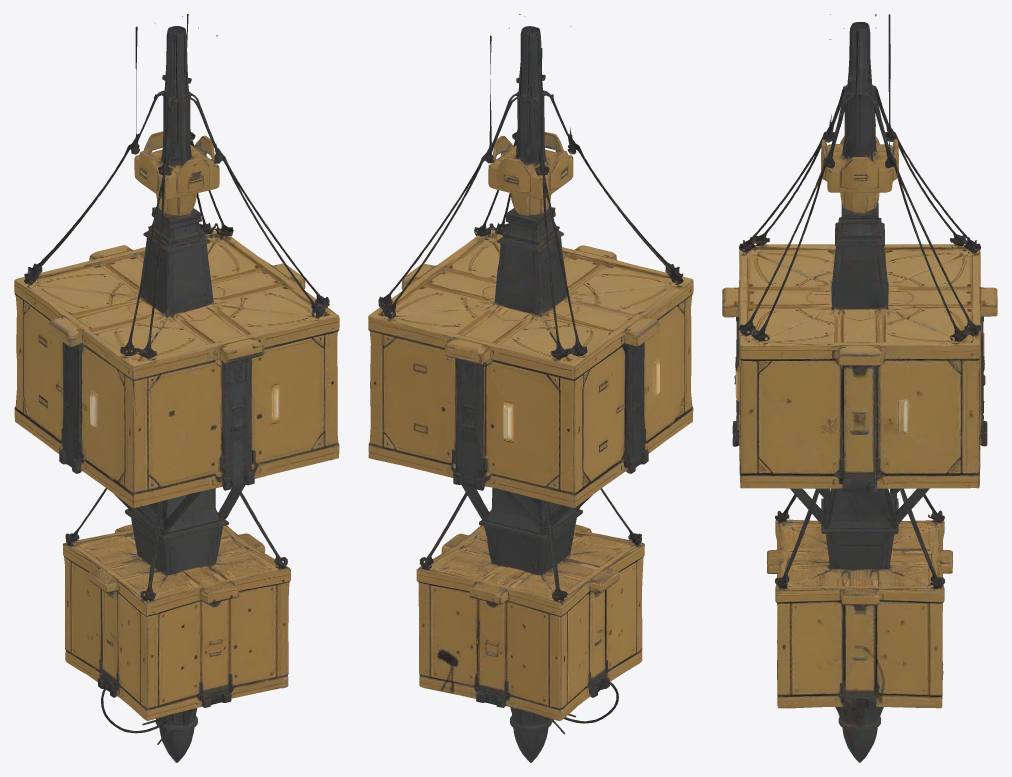
Rendered from bld-inverted-cube-hab.glb.
The picture shows the model from 3 angles, left to right: view 1: azimuth 30°, elevation 25°; view 2: azimuth 150°, elevation 25°; view 3: azimuth 270°, elevation 25°; orthographic projection.
Visible parts, largest first — view 1: Mesh_0; view 2: Mesh_0; view 3: Mesh_0.
Boxes of the visible parts, x1,y1,x2,y2 form: Mesh_0: (14,14,339,762); Mesh_0: (368,14,693,762); Mesh_0: (722,14,997,762).
Size of the model in its own units: 0.6389 by 1.9 by 0.6389.
1 material, 1 textured.
